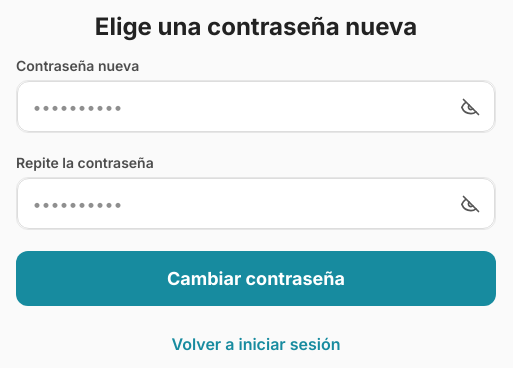
ResetPassword › shows the invalid-link screen on 400
The image size is (513, 368).
Type "password123" into the password field labelled "Contraseña nueva".
click(256, 107); type("password123")  # box [17,81,495,132]
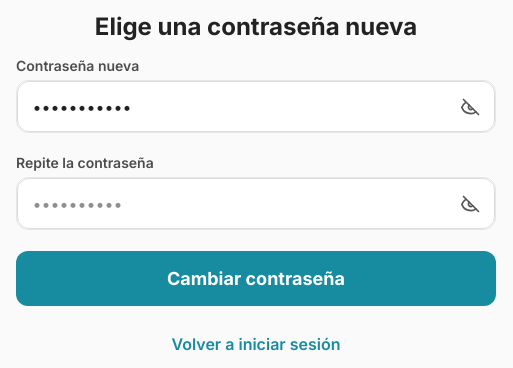
Type "password123" into the password field labelled "Repite la contraseña".
click(256, 204); type("password123")  # box [17,178,495,229]
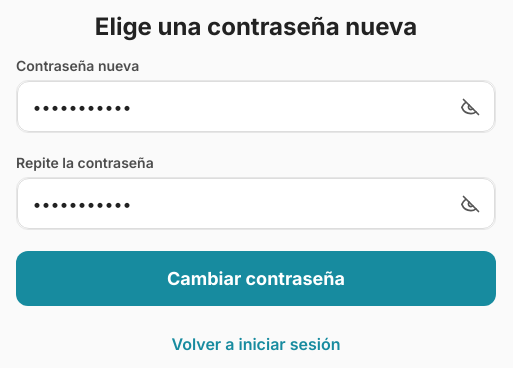
Click the button "Cambiar contraseña".
click(256, 278)  # box [16,251,496,306]
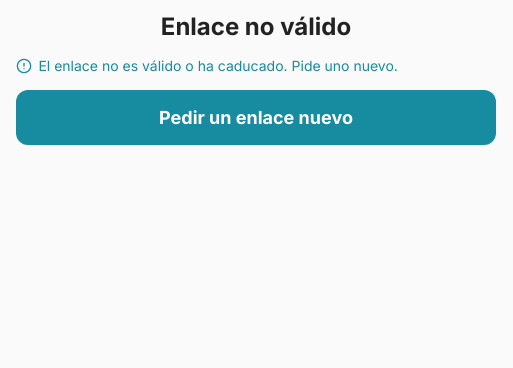
expect the text "El enlace no es válido o ha caducado. Pide uno nuevo." is shown: met, box [16,57,398,74]
